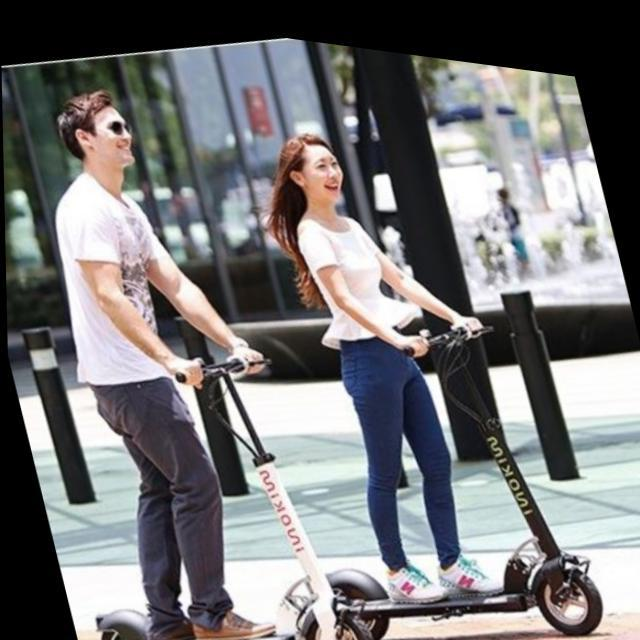Nonhelmet: (55, 75, 141, 182), (272, 120, 350, 210)
